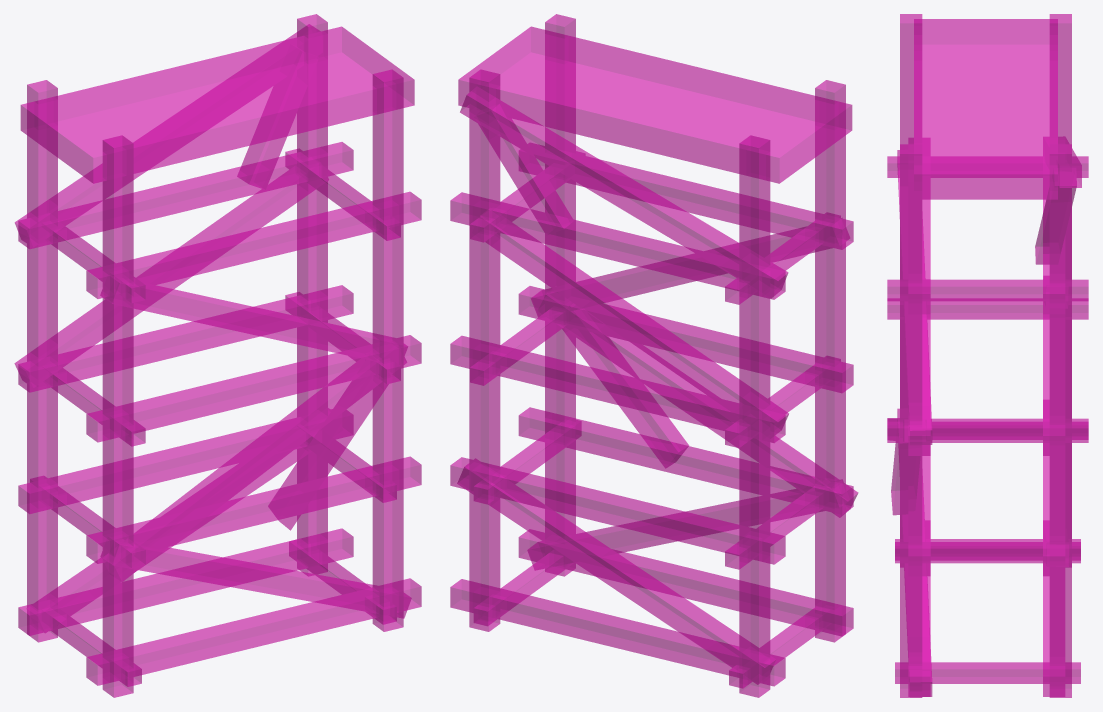
File: SM_Prop_Scaffolding_03_Collision.fbx
3 renders of one model, left to right at view 1: azimuth 30°, elevation 25°; view 2: azimuth 150°, elevation 25°; view 3: azimuth 270°, elevation 25°, orthographic.
Parts seen in each view (by area): view 1: SM_Prop_Scaffolding_03_Collision; view 2: SM_Prop_Scaffolding_03_Collision; view 3: SM_Prop_Scaffolding_03_Collision.
Boxes of the visible parts, left/top/right/bottom form: SM_Prop_Scaffolding_03_Collision: left=14, top=14, right=421, bottom=697; SM_Prop_Scaffolding_03_Collision: left=450, top=14, right=858, bottom=697; SM_Prop_Scaffolding_03_Collision: left=887, top=14, right=1088, bottom=697.
Size of the model in its own units: 574 by 919 by 309.
